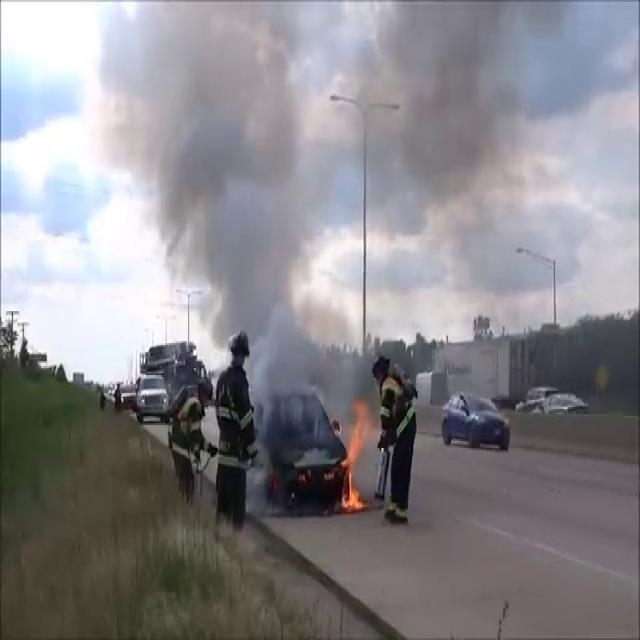Fire: (338, 396, 374, 511)
Smoke: (105, 1, 357, 378)
